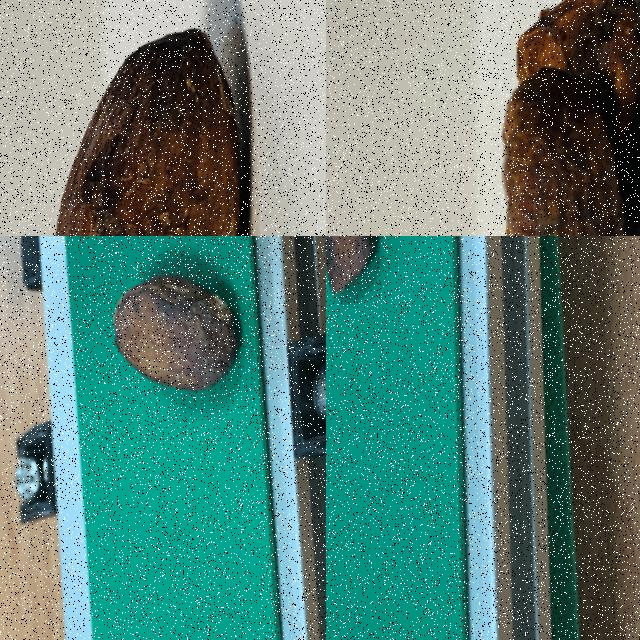Agglomerated_cocoabeans: (380, 0, 639, 235)
Fine_cocoabeans: (0, 0, 325, 235), (80, 236, 300, 480)
Flat_cocoabeans: (326, 236, 454, 378)
